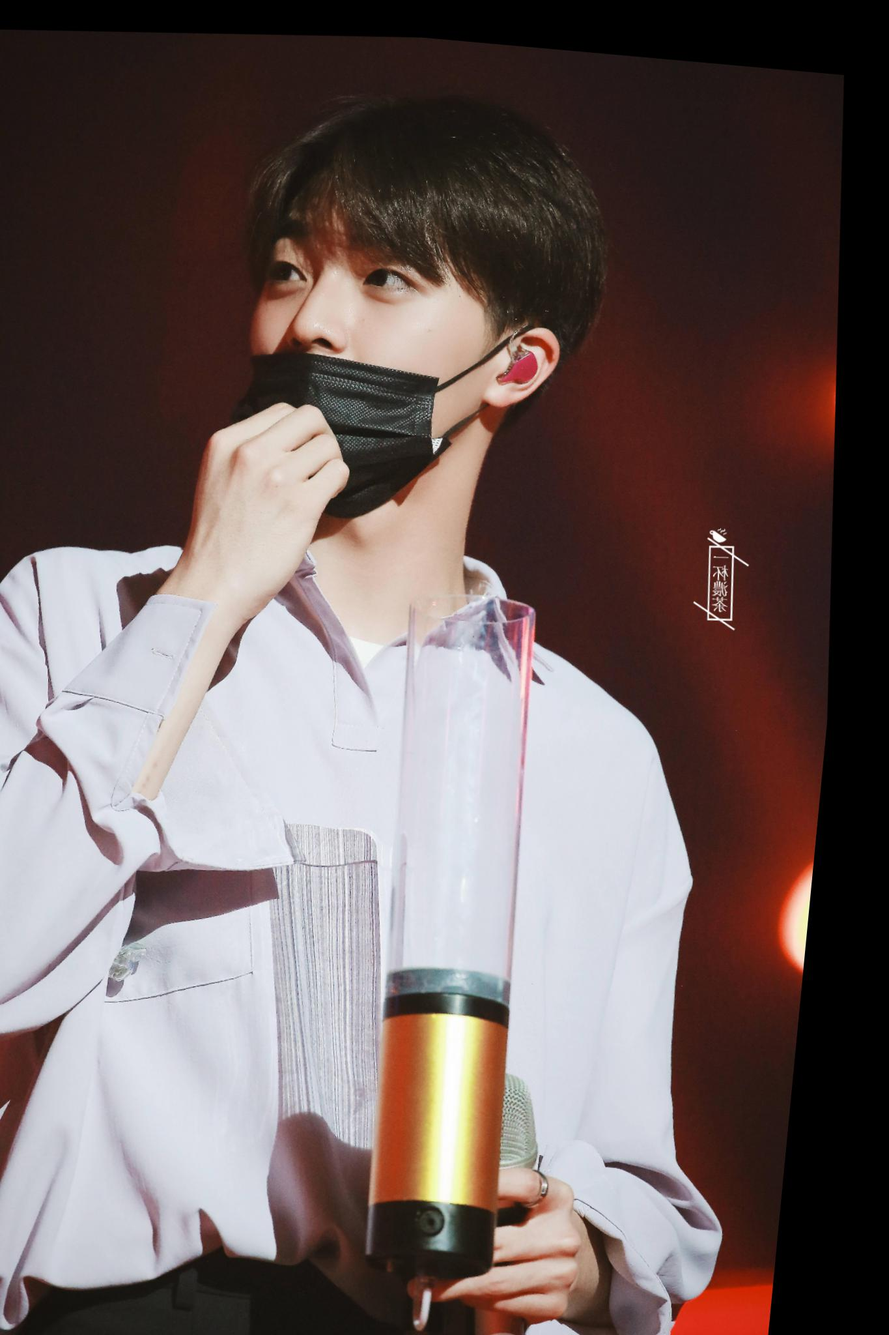WRONG: (229, 173, 528, 535)
